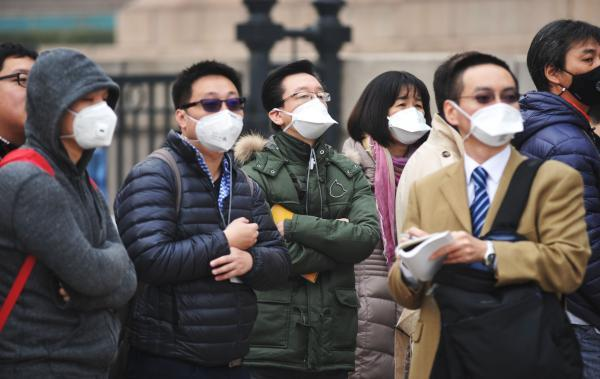OK: (462, 85, 524, 146), (66, 91, 122, 147), (190, 95, 243, 152), (285, 85, 338, 138), (389, 93, 437, 141), (569, 47, 600, 106)
